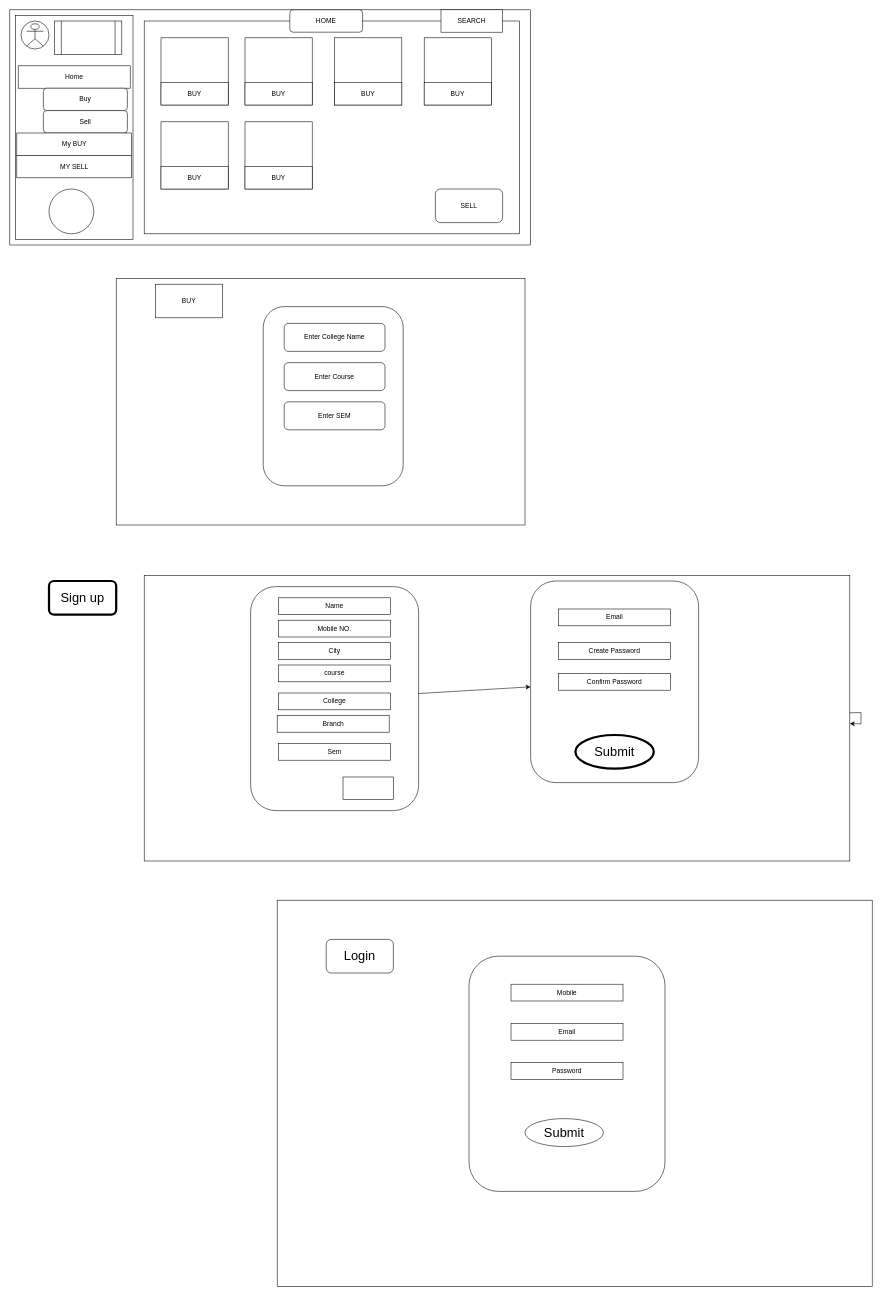
Image size: 882x1296. Some labels were removed from this diagram. The centre of each missing label's shape, as x and y in pixels:
"Active User 100" belongs at pixel 71 211.
"Actor" belongs at pixel 34 34.
"Next" belongs at pixel 367 787.
"USERNAME" belongs at pixel 88 37.
